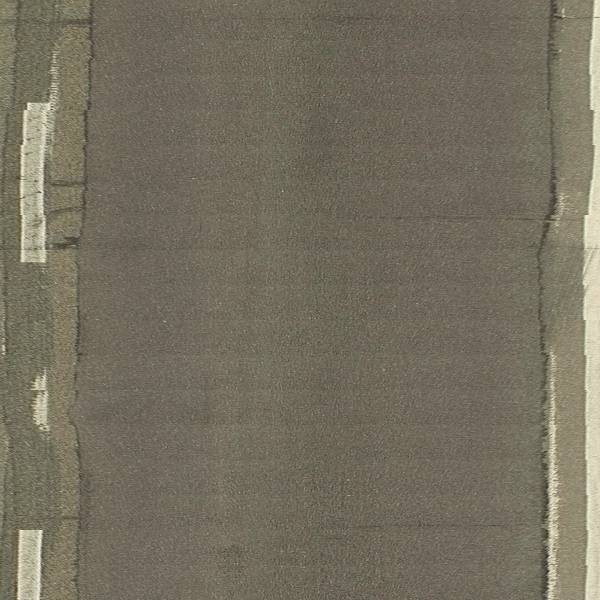road_damage: (528, 157, 574, 444), (52, 79, 106, 280)
